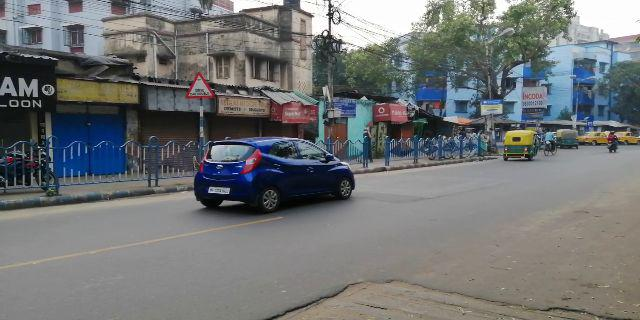Autorickshaw: (503, 129, 539, 162)
Car: (192, 136, 356, 206)
